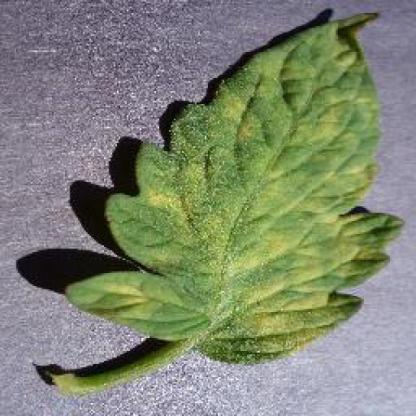Tomato_Leaf_Mold: (64, 11, 405, 362)
